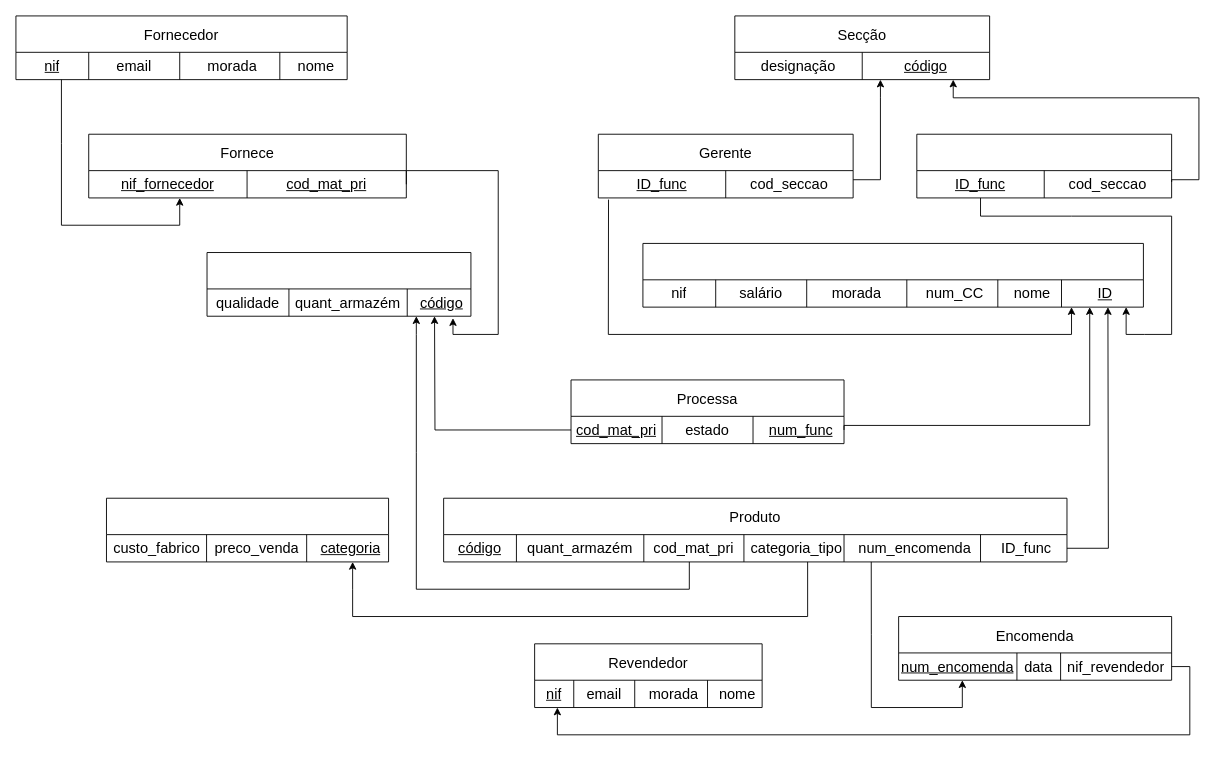
The diagram is 1222 pixels wide and 758 high, and some of its shapes have lost their labels. Each missing label, with the box of its shape:
Funcionário: (642, 243, 1143, 307)
Matéria Prima: (206, 252, 471, 316)
Operário: (916, 133, 1172, 198)
Tipo_Produto: (106, 497, 389, 562)
